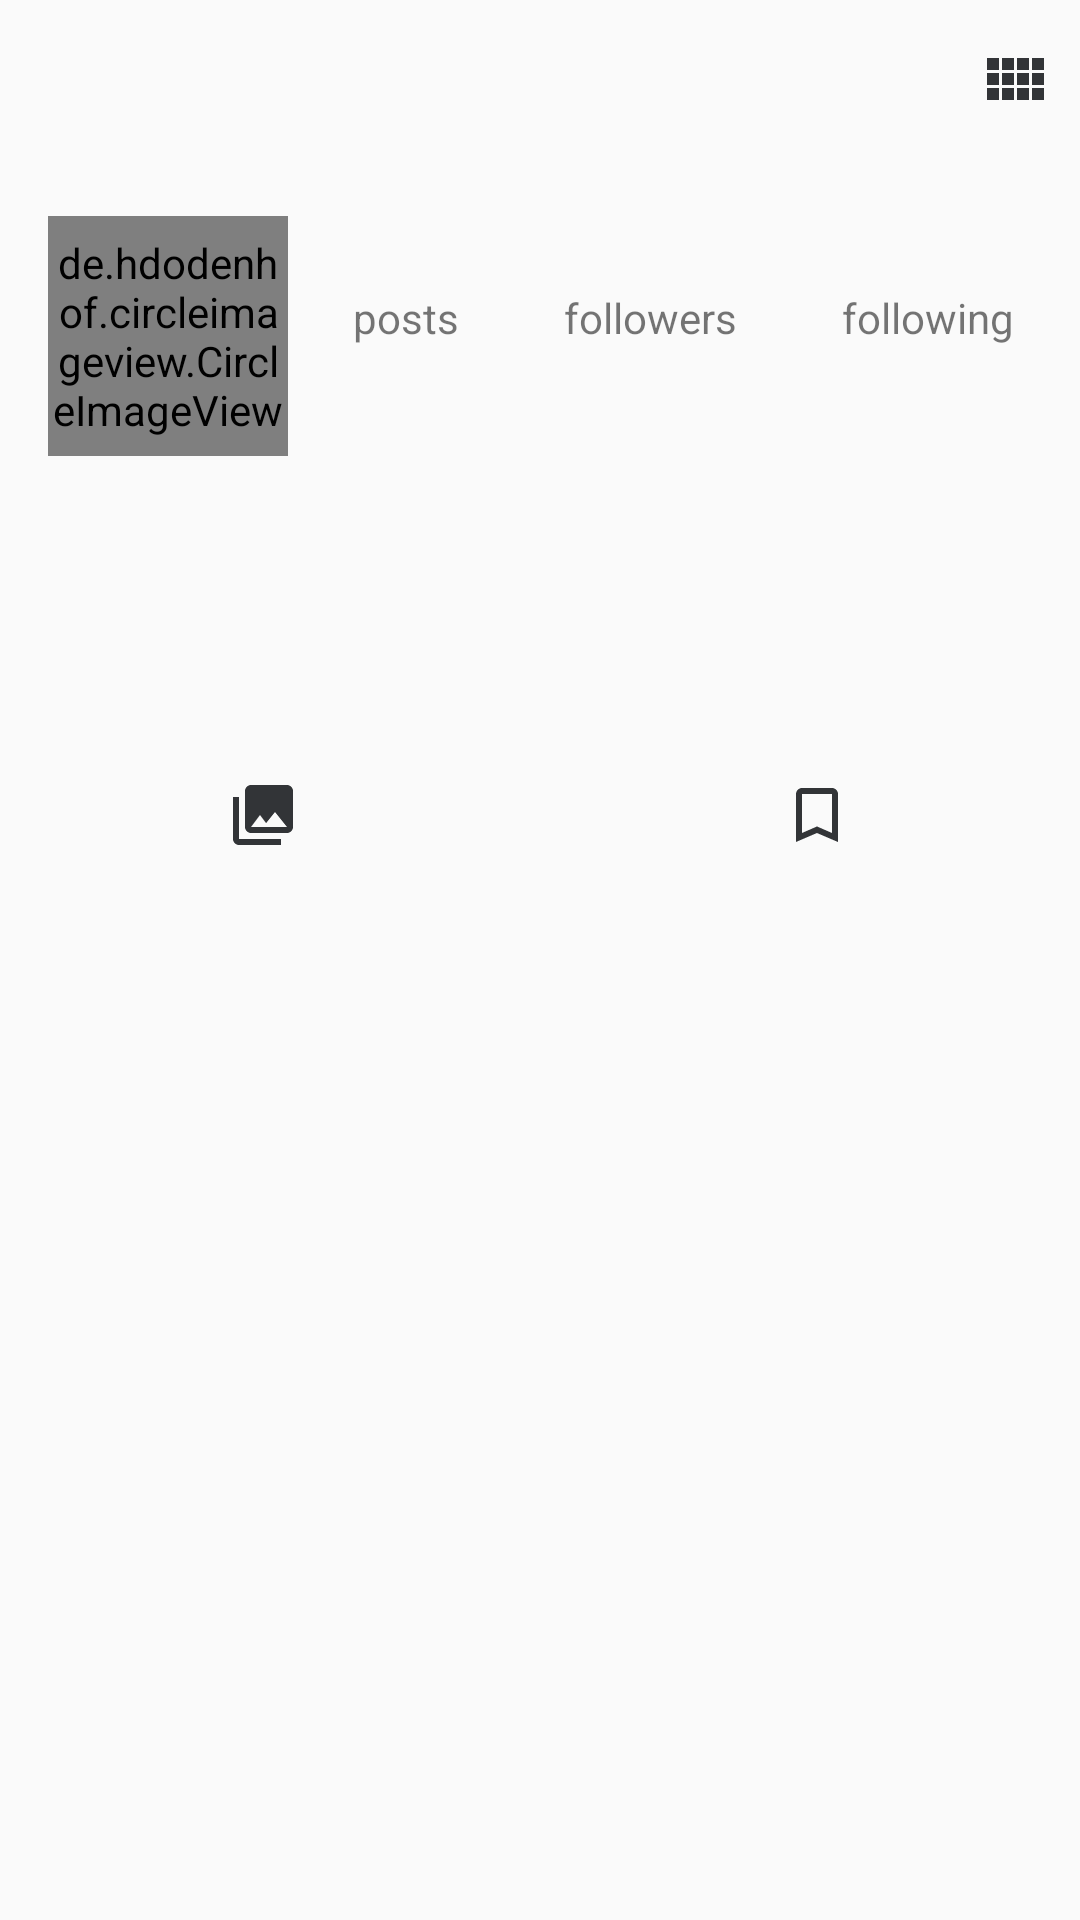

Named icons in this screenshot (1080px x 1920px) and their bounding boxes, [x1, y1, x2, y2]:
bookmark border: [796, 788, 838, 842]
collection: [233, 785, 293, 845]
